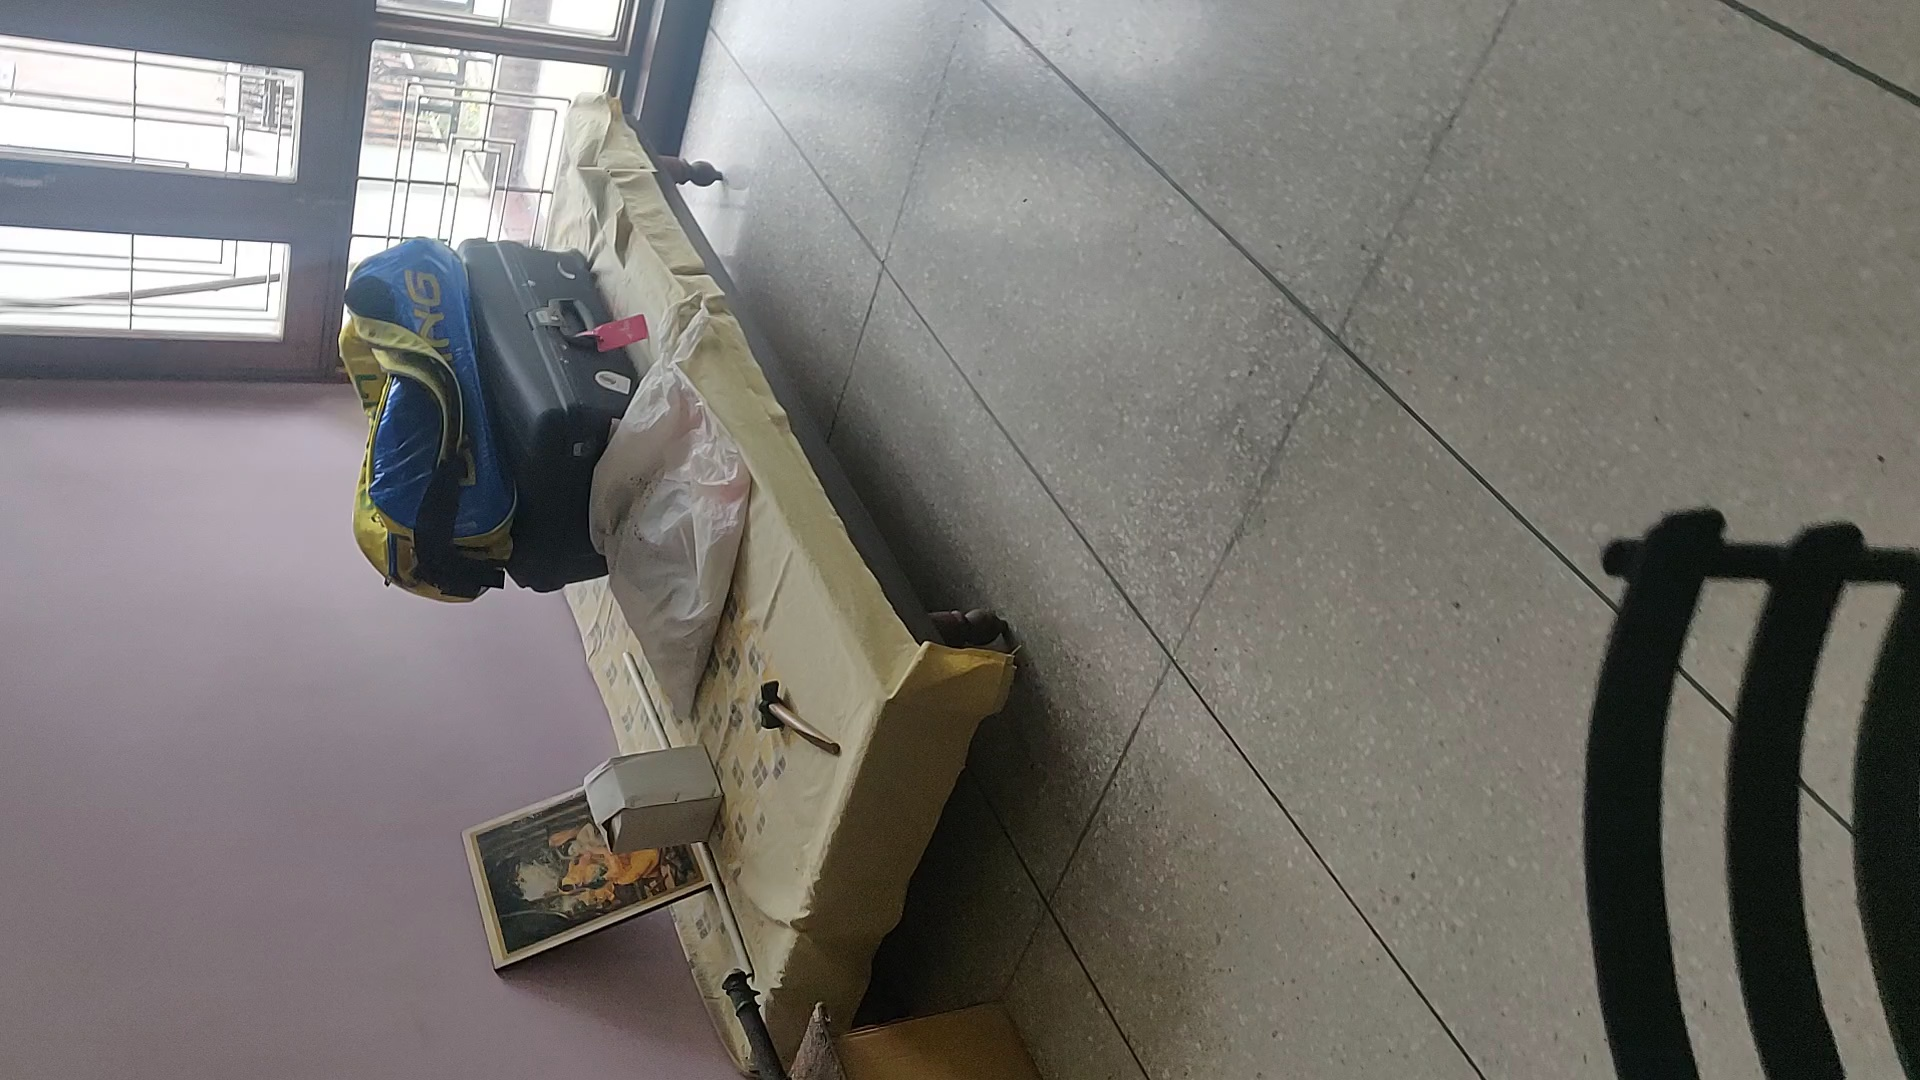hammer: (756, 678, 843, 758)
